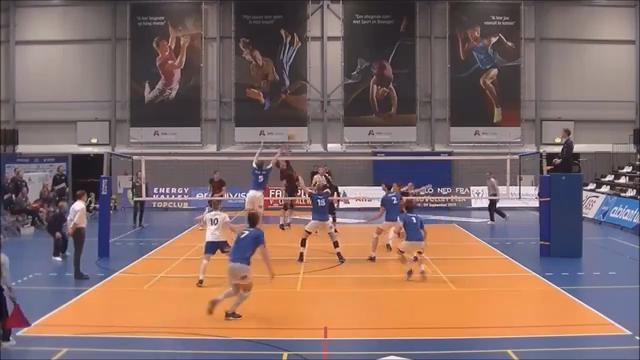attacco: (274, 134, 300, 234)
muro: (243, 137, 283, 233)
